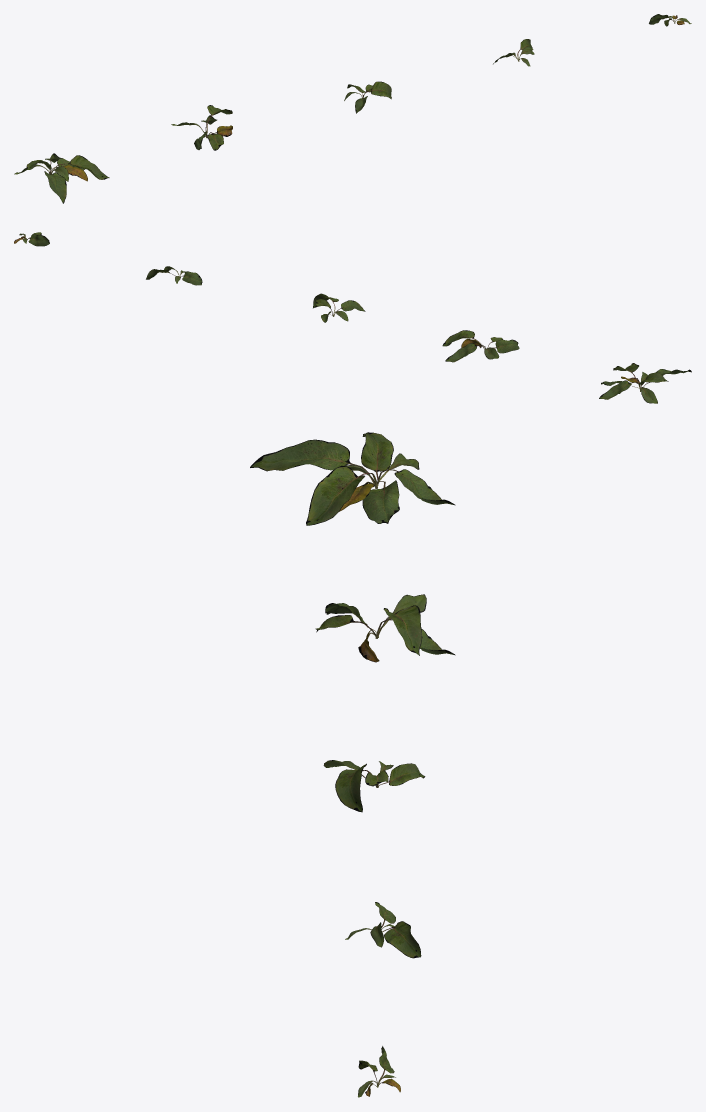
File: weed.glb
The picture shows the model from 3 angles, top to bottom: view 1: azimuth 30°, elevation 25°; view 2: azimuth 150°, elevation 25°; view 3: azimuth 270°, elevation 25°; orthographic projection. The views are drawn at different scales.
Parts seen in each view (by area): view 1: weed_plant_02_a_LOD0, weed_plant_02_b_LOD0, weed_plant_02_c_LOD0, weed_plant_02_d_LOD0; view 2: weed_plant_02_a_LOD0, weed_plant_02_b_LOD0, weed_plant_02_c_LOD0, weed_plant_02_d_LOD0, weed_plant_02_e_LOD0; view 3: weed_plant_02_a_LOD0, weed_plant_02_b_LOD0, weed_plant_02_c_LOD0, weed_plant_02_d_LOD0.
Boxes of the visible parts, left/top/right/bottom form: weed_plant_02_a_LOD0: left=14, top=153, right=109, bottom=203; weed_plant_02_b_LOD0: left=171, top=105, right=232, bottom=150; weed_plant_02_c_LOD0: left=344, top=81, right=391, bottom=113; weed_plant_02_d_LOD0: left=493, top=39, right=534, bottom=66; weed_plant_02_a_LOD0: left=599, top=363, right=691, bottom=403; weed_plant_02_b_LOD0: left=442, top=330, right=519, bottom=362; weed_plant_02_c_LOD0: left=313, top=293, right=365, bottom=322; weed_plant_02_d_LOD0: left=146, top=266, right=202, bottom=285; weed_plant_02_e_LOD0: left=14, top=232, right=49, bottom=246; weed_plant_02_a_LOD0: left=250, top=432, right=455, bottom=525; weed_plant_02_b_LOD0: left=315, top=594, right=455, bottom=662; weed_plant_02_c_LOD0: left=323, top=760, right=425, bottom=812; weed_plant_02_d_LOD0: left=345, top=902, right=421, bottom=958.
Size of the model in its own units: 2.13 by 0.0751 by 0.2909.
Materials: 1 (1 with a texture image).
